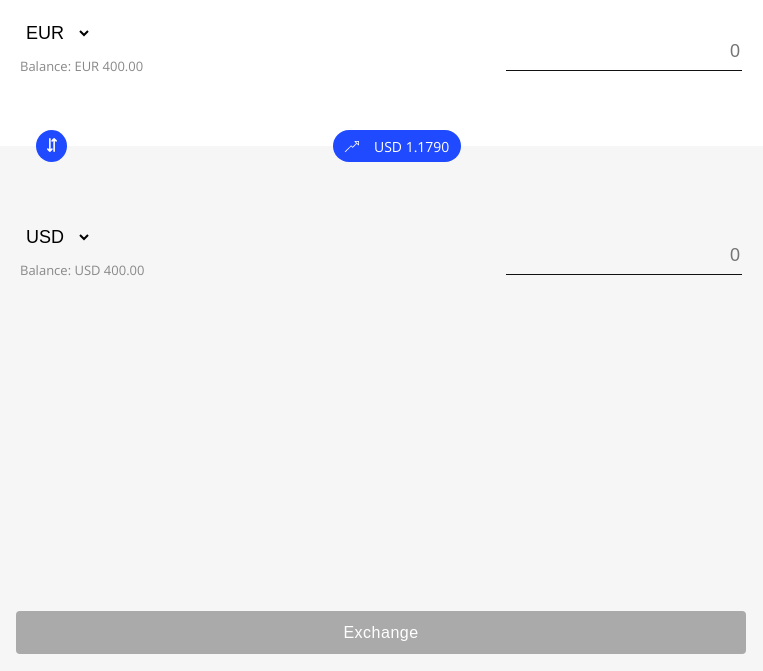
Test case: <Exchange /> › Should update pocket 1
Click the 1st dropdown with test id "currency": click(56, 32) [20,16,92,48]
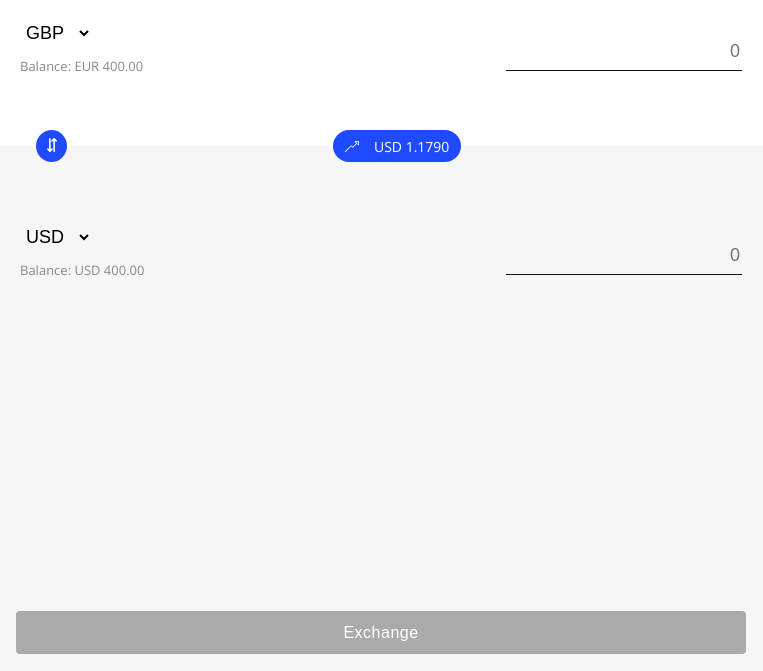
Check: the 1st dropdown with test id "currency" shows "GBP", box [20,16,92,48]
Click the number field with test id "value" in the row of "Balance: EUR 400.00": click(624, 52) [506,34,742,70]
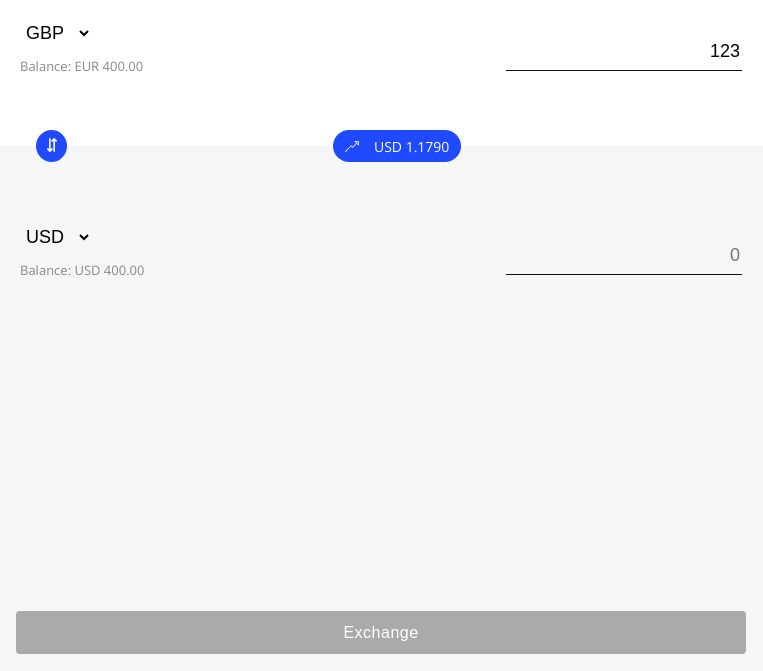
Check: the number field with test id "value" holds "123", box [506,34,742,70]
